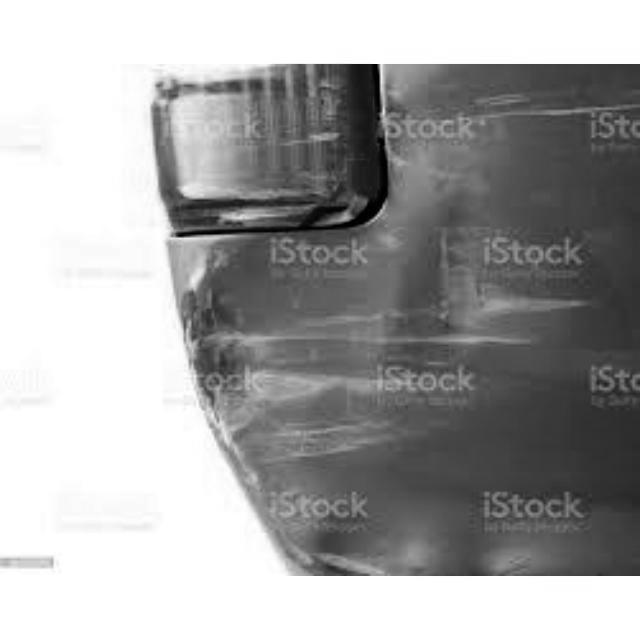rear-bumper-dent: (149, 118, 638, 574)
